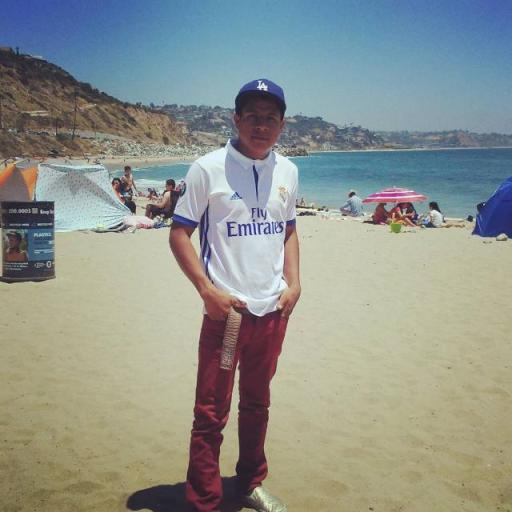Adidas: (229, 191, 244, 202)
Emirates: (222, 200, 288, 240)
